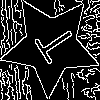T: (26, 20, 79, 71)
